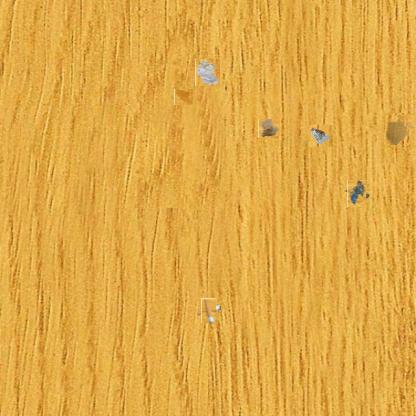dirty: (195, 58, 220, 86), (345, 182, 368, 205), (309, 125, 333, 147), (198, 300, 219, 320), (259, 118, 279, 139)
liquid: (384, 113, 414, 146), (174, 89, 193, 105)
